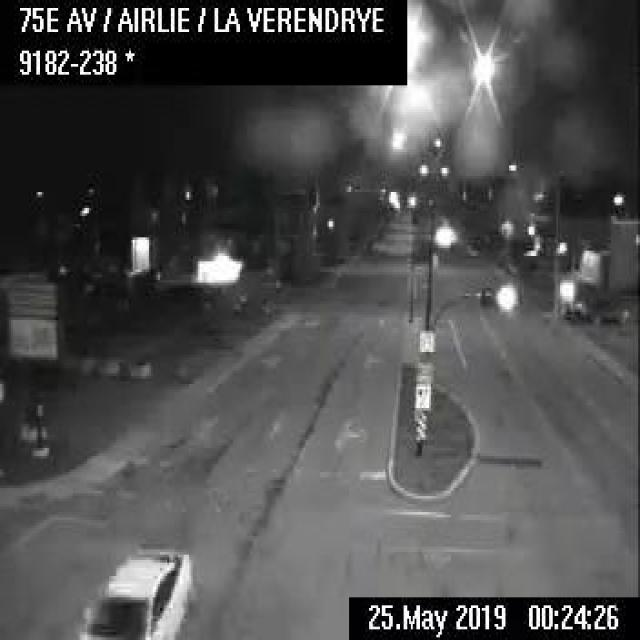vehicle: (78, 544, 191, 637), (580, 292, 629, 324)
